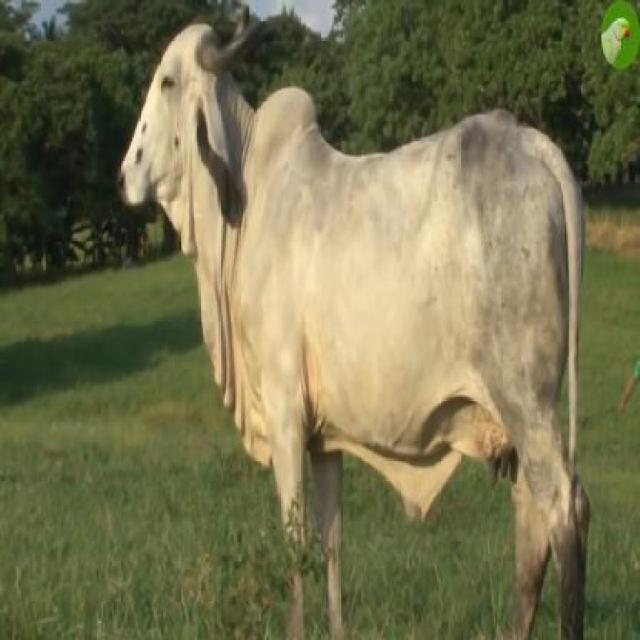Cow: (120, 4, 588, 638)
